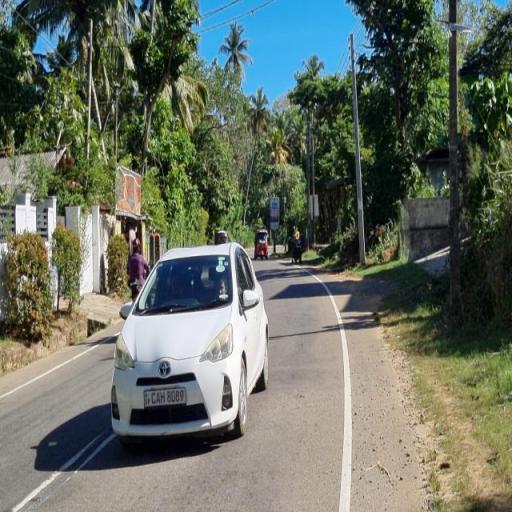double_white_line: (12, 430, 114, 510)
